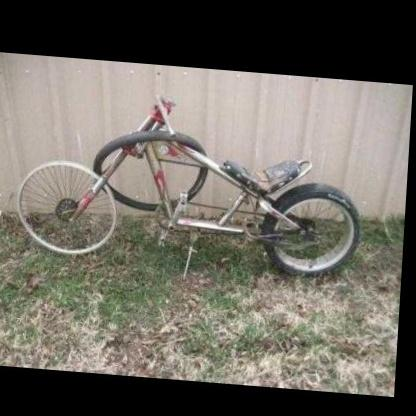Bicycle: (3, 82, 375, 357)
